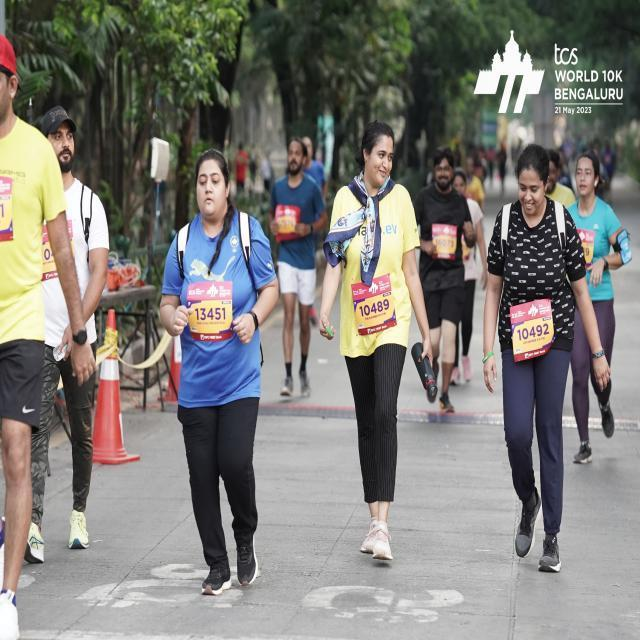dorsal: (506, 298, 557, 359), (187, 280, 234, 344), (349, 275, 397, 330)
